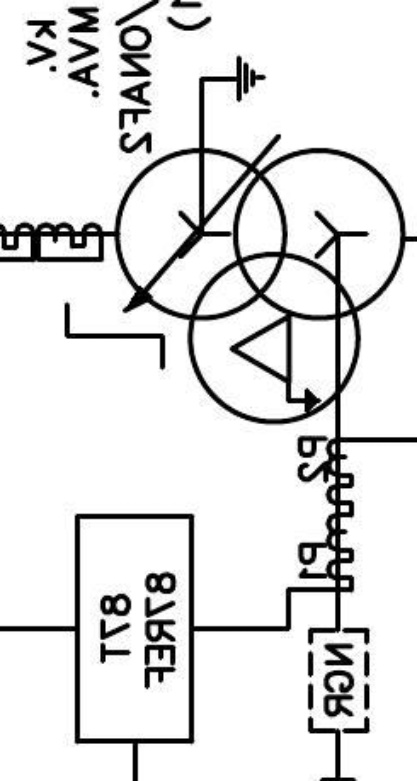11522_tx_ynyn0d1: (113, 146, 408, 426)
